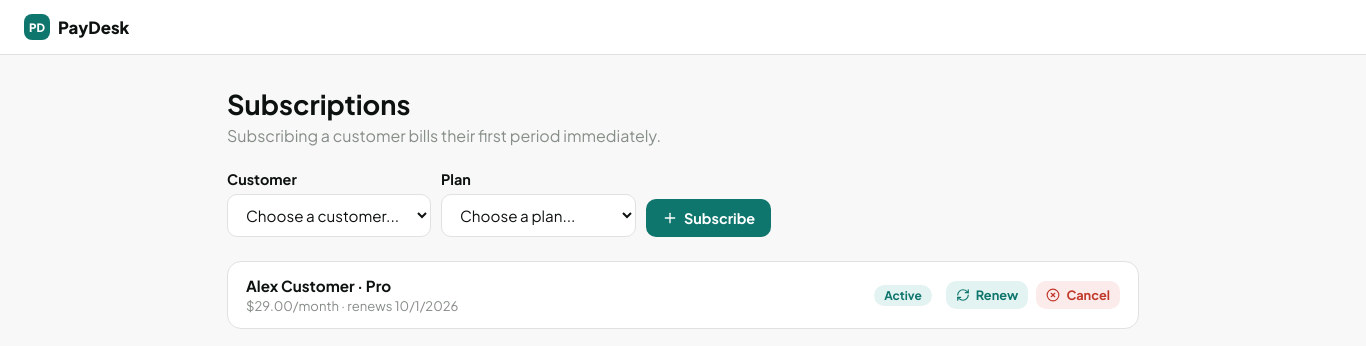
Scenario: SubscriptionsPage › cancels a subscription and hides its action buttons
Expected: the list is shown, [227, 261, 1139, 329]
What coordinates should you click on to do the following:
click the button "Cancel"
I would click on:
 (1078, 295)
Its box is [1036, 281, 1120, 309].
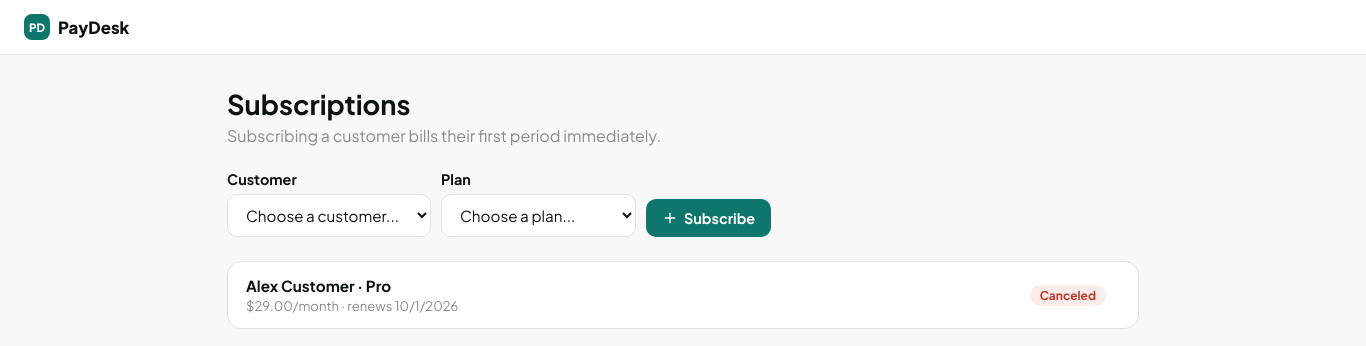
Now the text "canceled" is shown, box [1030, 284, 1106, 306]
